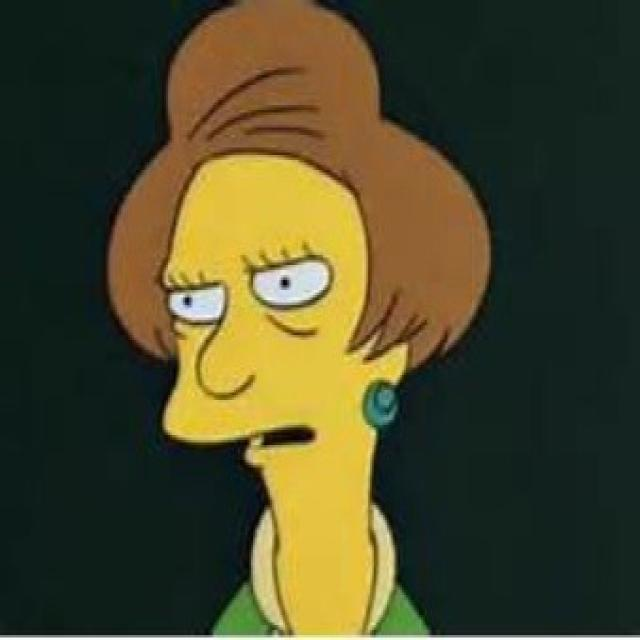Edna Krappel: (100, 0, 497, 578)
